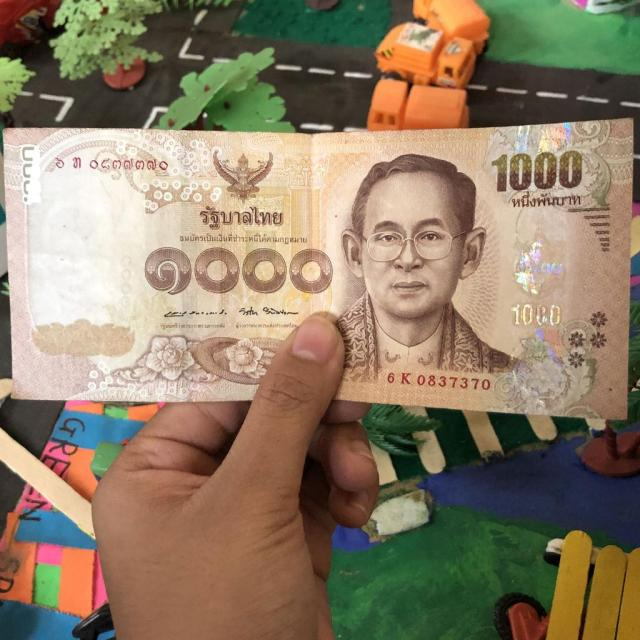THAI1000: (5, 119, 632, 419)
